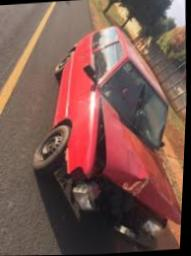Bonnet: (93, 95, 183, 225)
Bumper: (59, 185, 162, 250)
Light: (72, 177, 102, 208)
